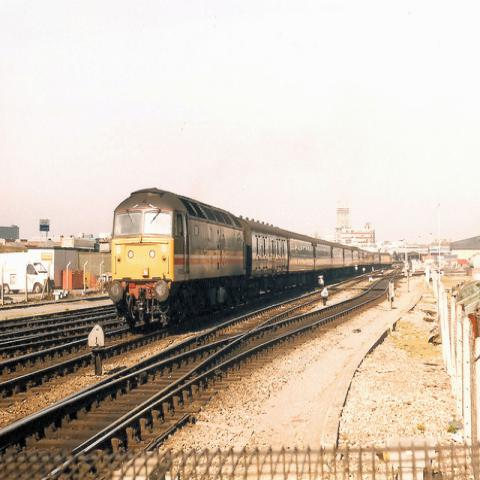truck: (1, 259, 52, 297)
